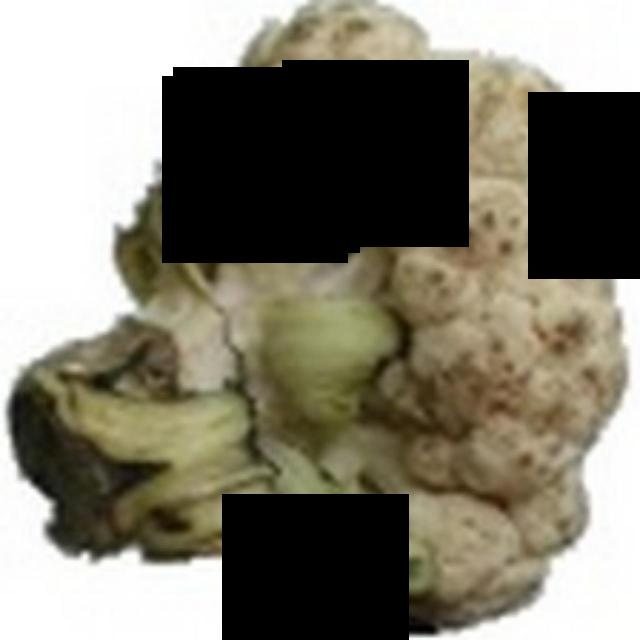cauliflower: (7, 3, 636, 624)
